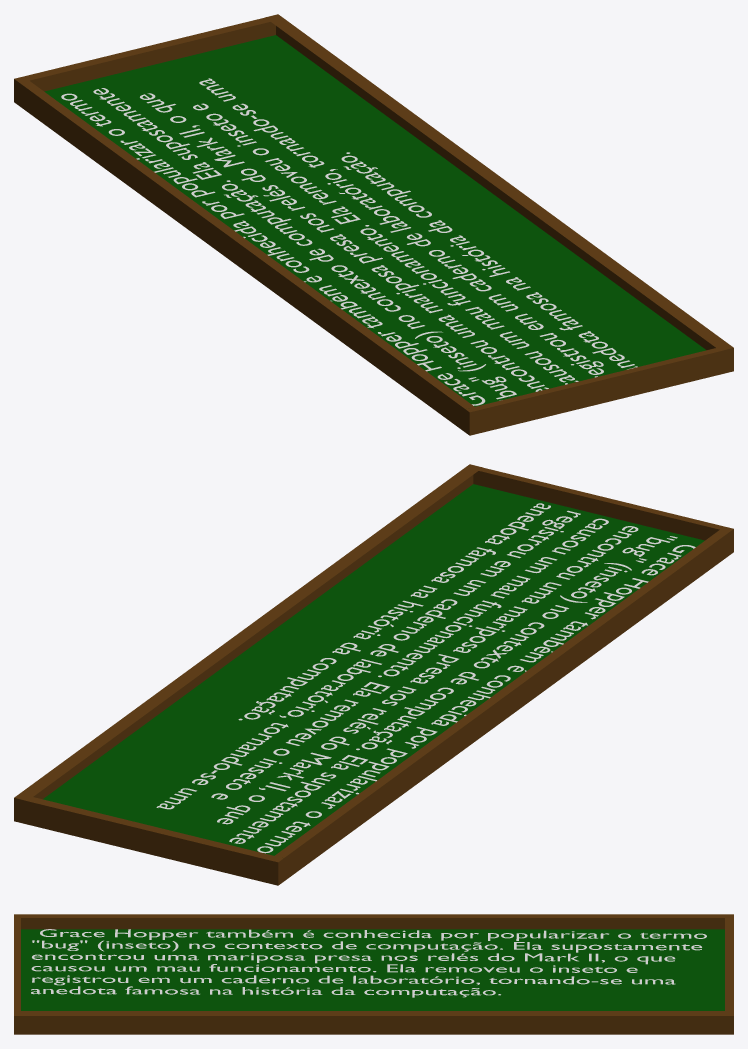
The model's file is Grace3.fbx.
3 renders of one model, top to bottom at view 1: azimuth 30°, elevation 25°; view 2: azimuth 150°, elevation 25°; view 3: azimuth 270°, elevation 25°, orthographic. The views are drawn at different scales.
Visible parts, largest first — view 1: Cube, Text; view 2: Cube, Text; view 3: Cube, Text.
Part boxes in pixels (left/top/right/bottom): Cube: left=14, top=14, right=733, bottom=435; Text: left=61, top=78, right=637, bottom=405; Cube: left=14, top=464, right=733, bottom=885; Text: left=156, top=503, right=695, bottom=853; Cube: left=14, top=914, right=733, bottom=1034; Text: left=31, top=929, right=706, bottom=997.
Size of the model in its own units: 624 by 53.07 by 1865.
